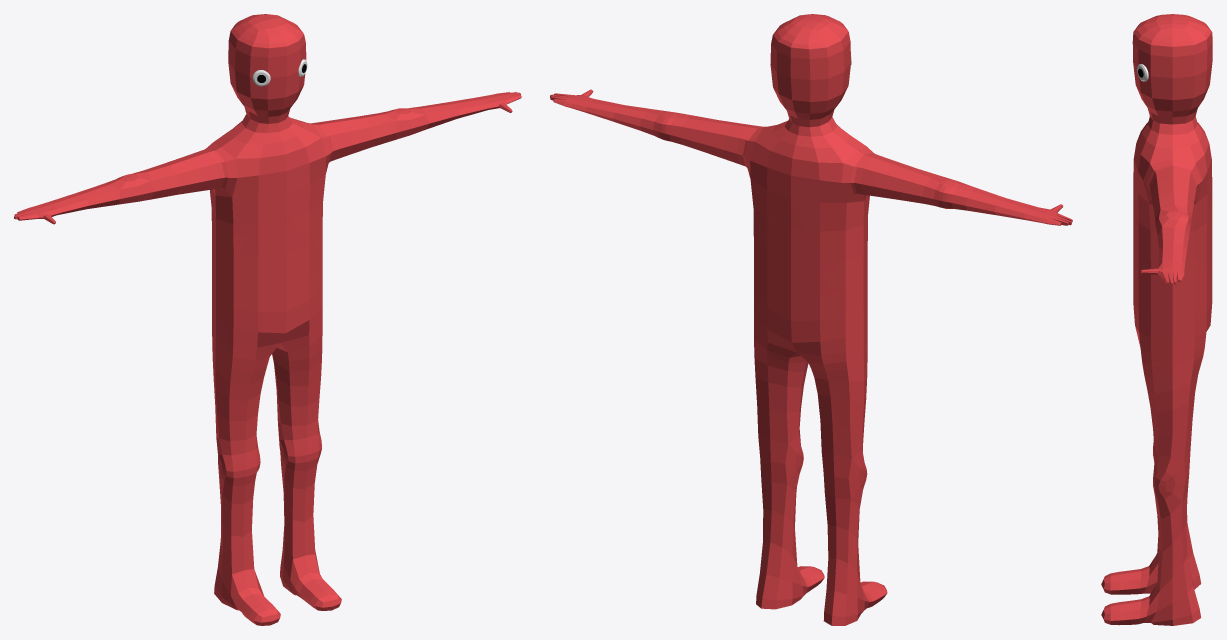
The model's file is Goober2.fbx.
3 renders of one model, left to right at view 1: azimuth 30°, elevation 25°; view 2: azimuth 150°, elevation 25°; view 3: azimuth 270°, elevation 25°, orthographic. The views are drawn at different scales.
Parts seen in each view (by area): view 1: GooberBody; view 2: GooberBody; view 3: GooberBody.
Part boxes in pixels (x1,y1,x2,y2): GooberBody: [14, 14, 521, 625]; GooberBody: [550, 14, 1072, 625]; GooberBody: [1101, 14, 1212, 625].
Bounding box in the file's own units: 2.07 × 2.25 × 0.3874.
